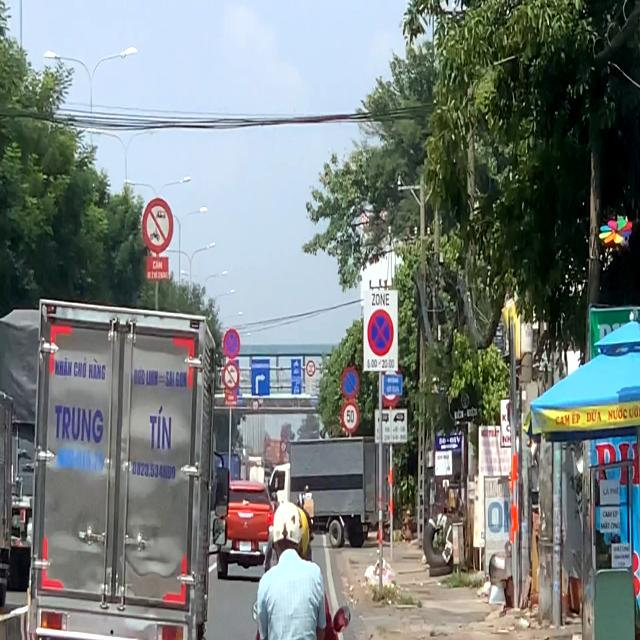P.117: (252, 398, 260, 412)
P.127: (342, 400, 359, 433)
P.130: (368, 309, 393, 356), (224, 329, 240, 359)
P.131a: (341, 367, 360, 400)
